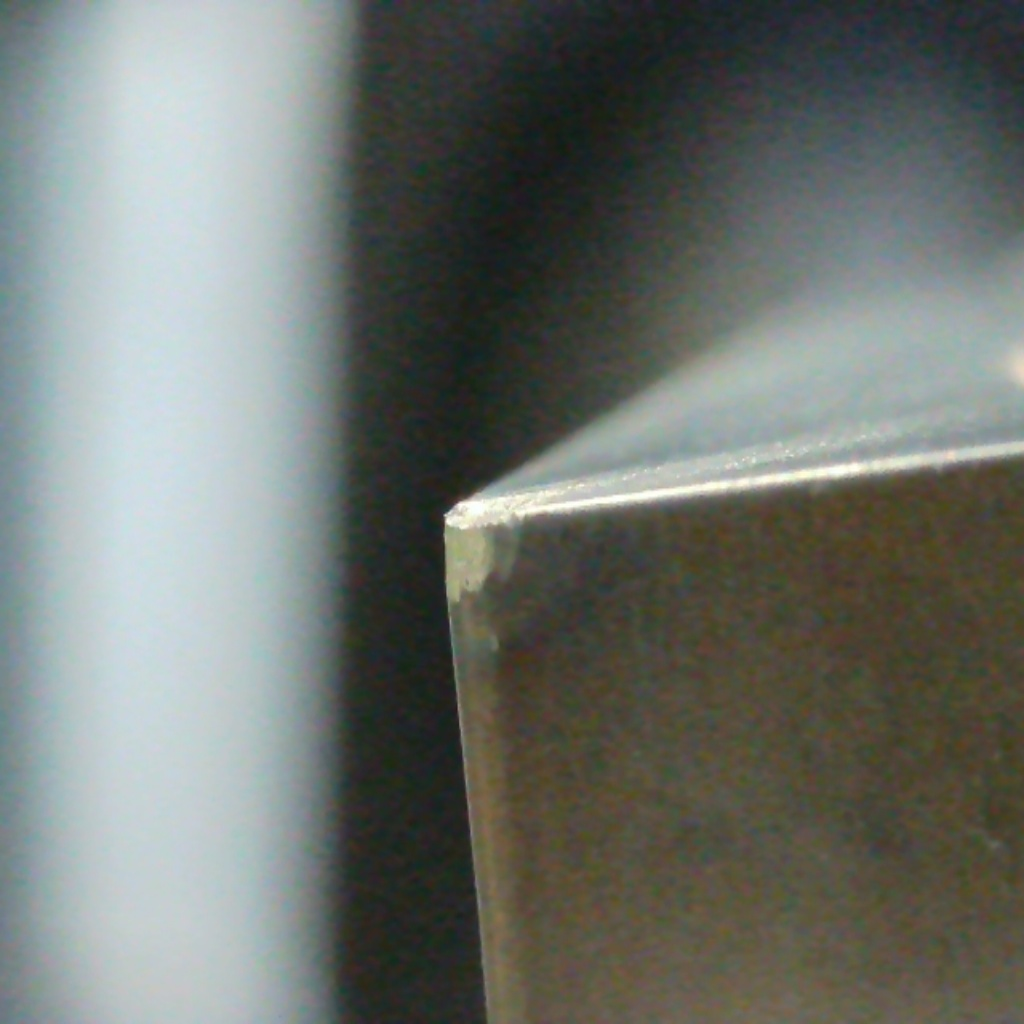flank_wear: (440, 514, 545, 613)
